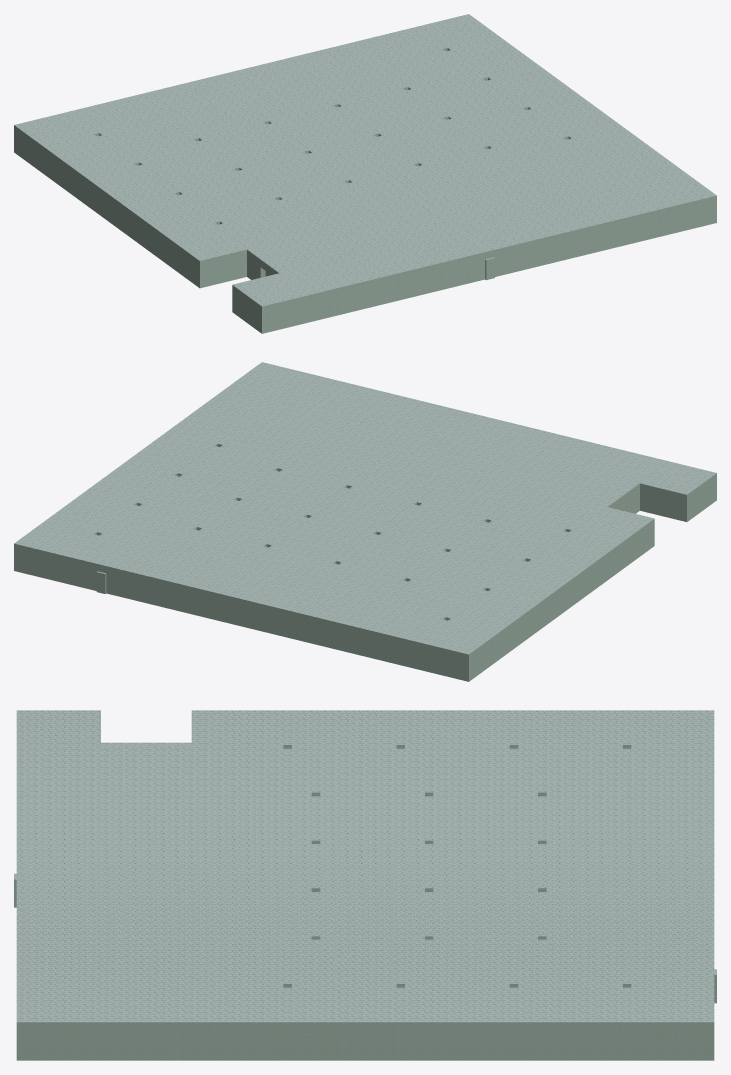
File: gbi_B1_2.glb
The picture shows the model from 3 angles, top to bottom: view 1: azimuth 30°, elevation 25°; view 2: azimuth 150°, elevation 25°; view 3: azimuth 270°, elevation 25°; orthographic projection. The views are drawn at different scales.
Parts seen in each view (by area): view 1: M_D_ceil_B1, M_D_wall_B1, M_GBI_kit; view 2: M_D_ceil_B1, M_D_wall_B1, M_GBI_kit; view 3: M_D_ceil_B1, M_D_wall_B1.
Part boxes in pixels (left/top/right/bottom): M_D_ceil_B1: left=14, top=14, right=716, bottom=306; M_D_wall_B1: left=14, top=48, right=716, bottom=333; M_GBI_kit: left=200, top=249, right=278, bottom=288; M_D_ceil_B1: left=14, top=362, right=716, bottom=654; M_D_wall_B1: left=14, top=444, right=716, bottom=681; M_GBI_kit: left=608, top=483, right=686, bottom=521; M_D_ceil_B1: left=16, top=710, right=714, bottom=1022; M_D_wall_B1: left=14, top=745, right=716, bottom=1060.
Bounding box in the file's own units: 52.2 × 3 × 49.7.
14 materials, 5 textured.
